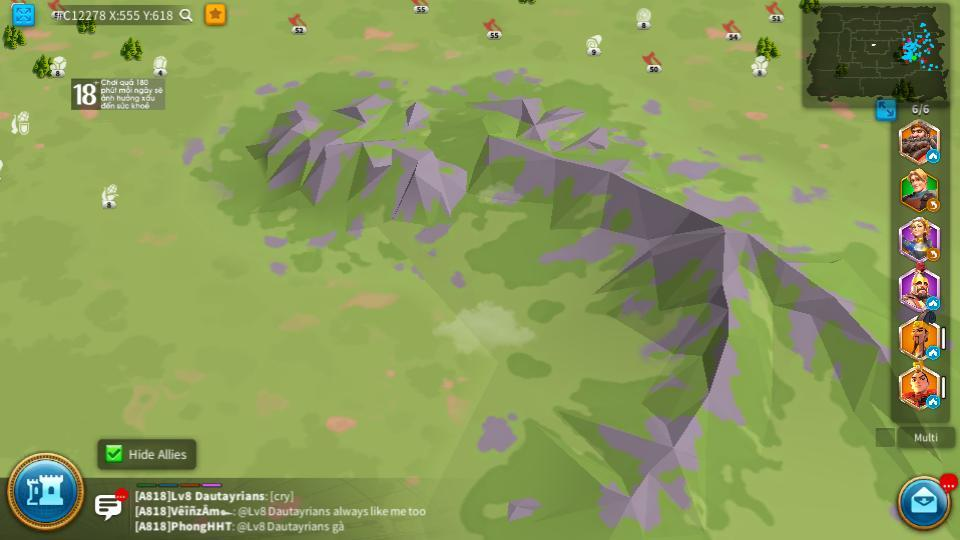gem-z-out: (633, 8, 652, 27), (151, 56, 170, 73)
march_idle: (926, 395, 940, 407), (926, 151, 940, 162), (925, 298, 938, 309), (927, 347, 940, 357)
march_returning: (926, 248, 941, 260), (927, 201, 940, 212)
